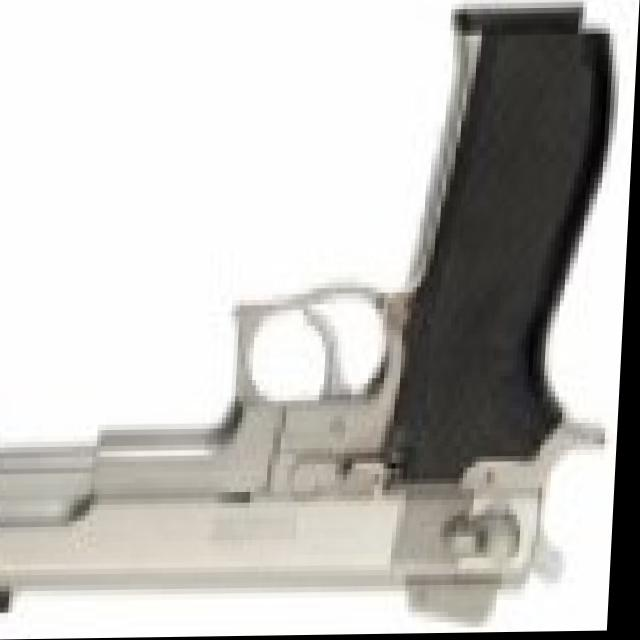handgun: (0, 20, 615, 629)
